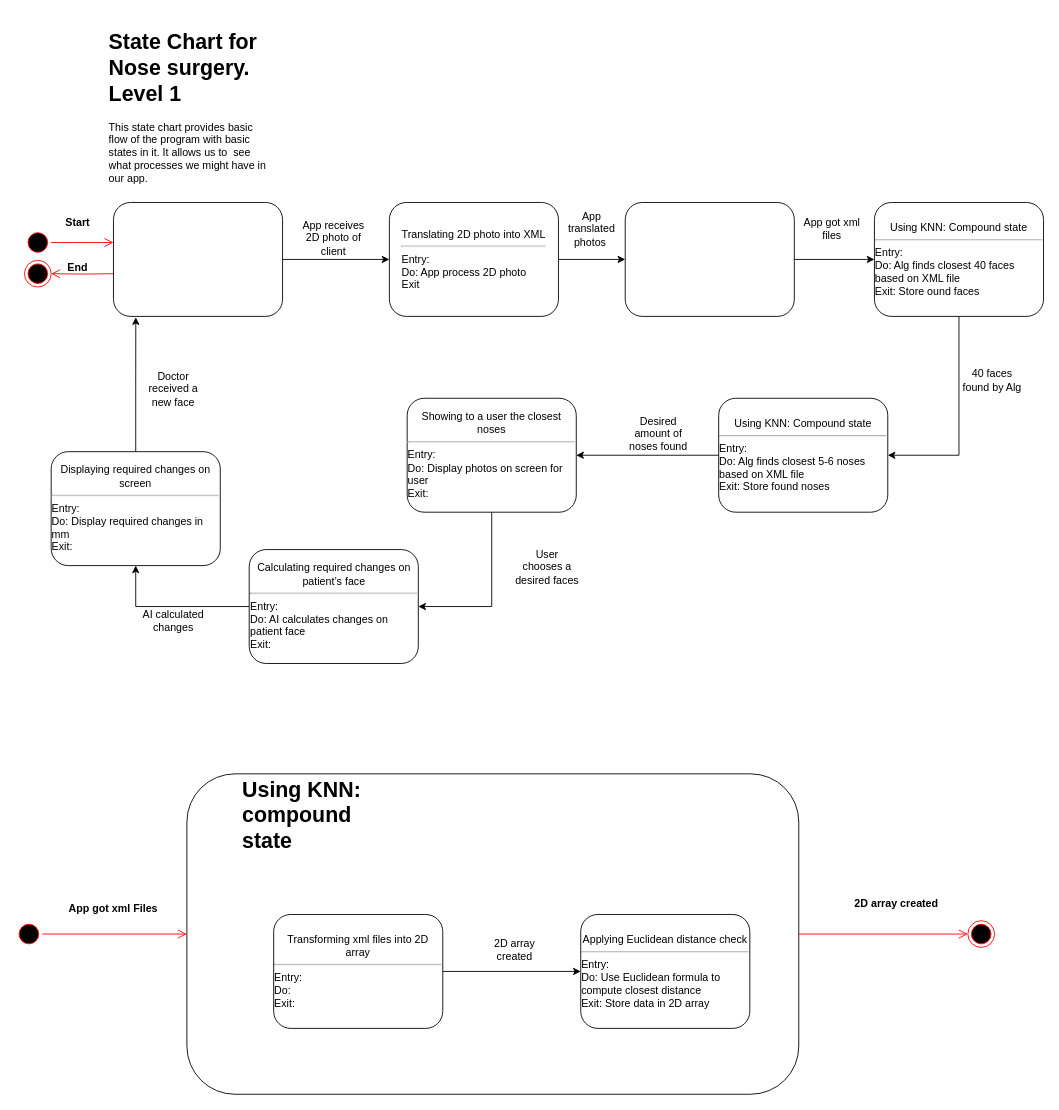
Some shapes in this 1059 by 1110 pixel diagram are drawn without their labels. The shapes that lost their labels are listed below. From the top down, each one's centre as x and y in pixels, then its label:
At (x=198, y=259): "Waiting for the command Entry: Do: Exit".
At (x=709, y=259): "Retrieving from dataset Entry: Do: system gets XML files from dataset Exit:".
